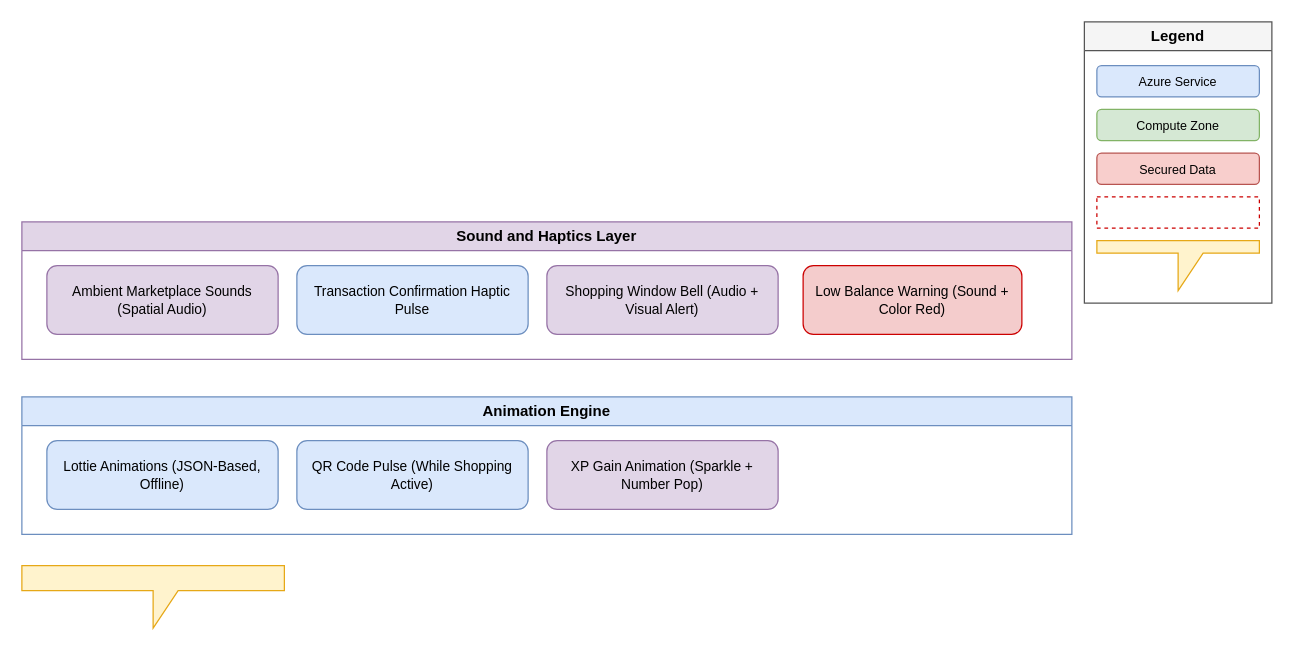
Some shapes in this 1294 by 650 pixel diagram are drawn without their labels. Each missing label, with the centre of its shape:
"All animations stored locally: zero network dependency" goes at [152,596].
"Compliance Note" goes at [1177,265].
"Trust Boundary" goes at [1177,212].
